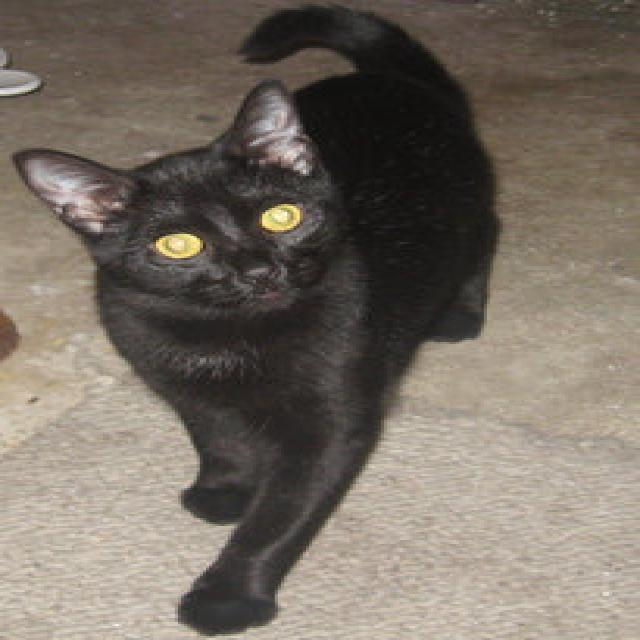Bombay: (10, 78, 344, 306)
